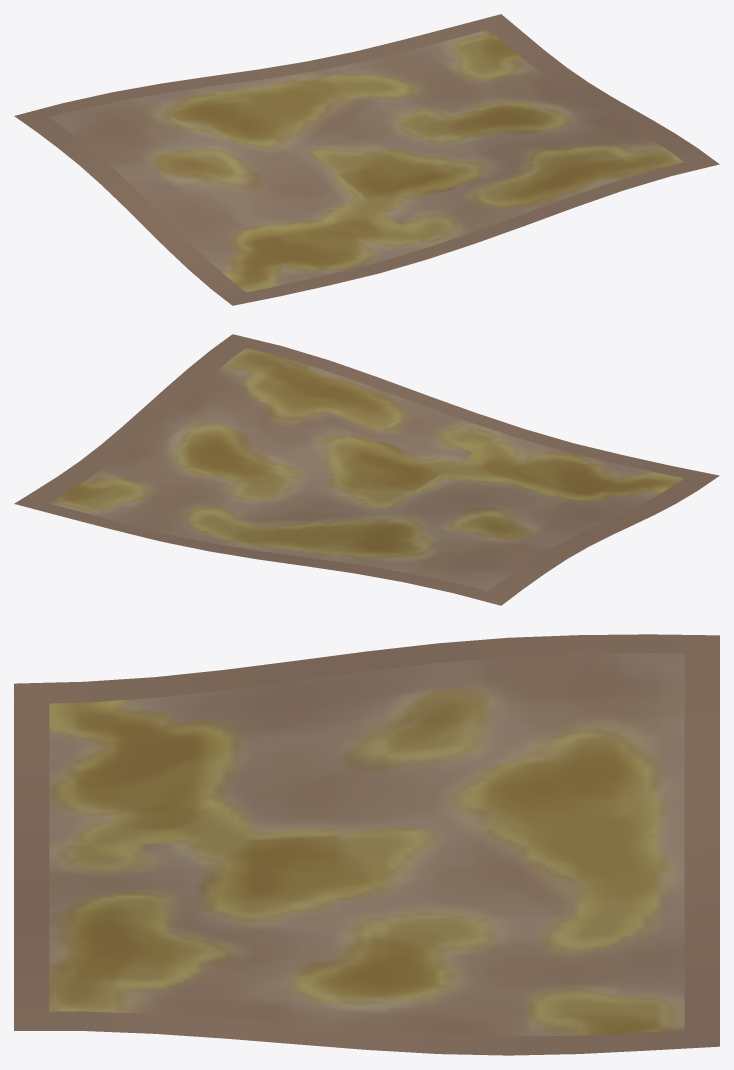
Rendered from Map.fbx.
3 renders of one model, top to bottom at view 1: azimuth 30°, elevation 25°; view 2: azimuth 150°, elevation 25°; view 3: azimuth 270°, elevation 25°, orthographic. The views are drawn at different scales.
Visible parts, largest first — view 1: Map_mesh; view 2: Map_mesh; view 3: Map_mesh.
Part boxes in pixels (bbox=[...]): Map_mesh: bbox=[14, 14, 719, 305]; Map_mesh: bbox=[14, 334, 719, 605]; Map_mesh: bbox=[14, 634, 719, 1055].
Size of the model in its own units: 35.4 by 2.67 by 27.51.
